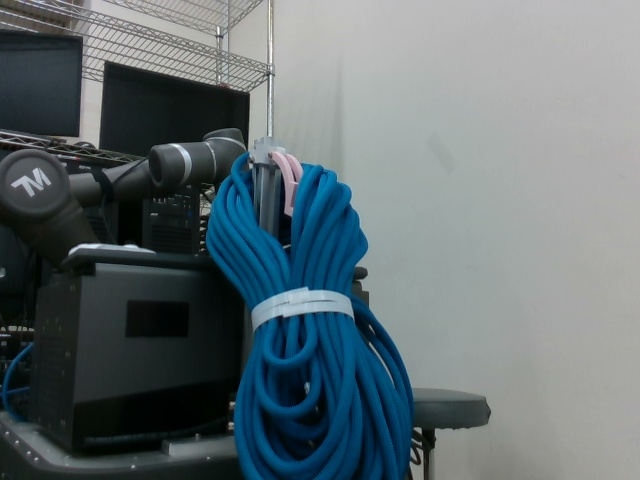rope: (204, 146, 417, 480)
